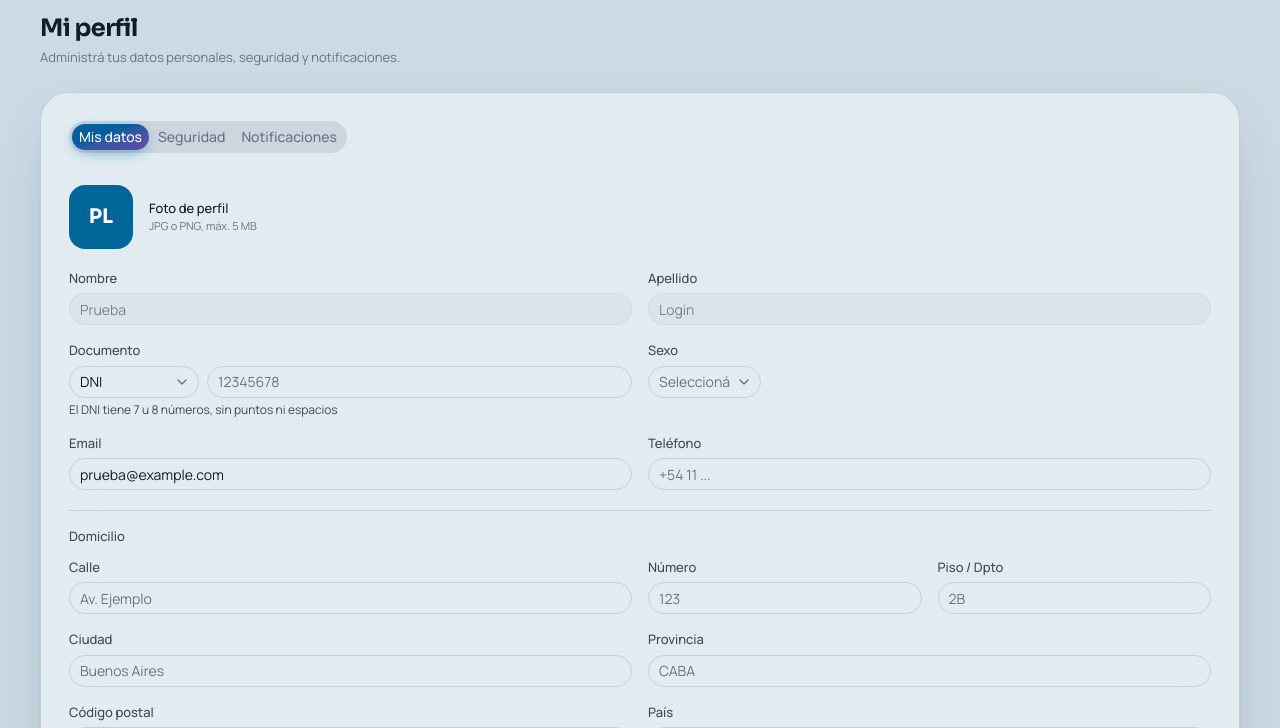
Scenario: MiPerfil — cambiar contraseña › says the current password is wrong instead of a generic error
The image size is (1280, 728).
Click the tab "Seguridad" at (192, 136), box [151,124,232,149]
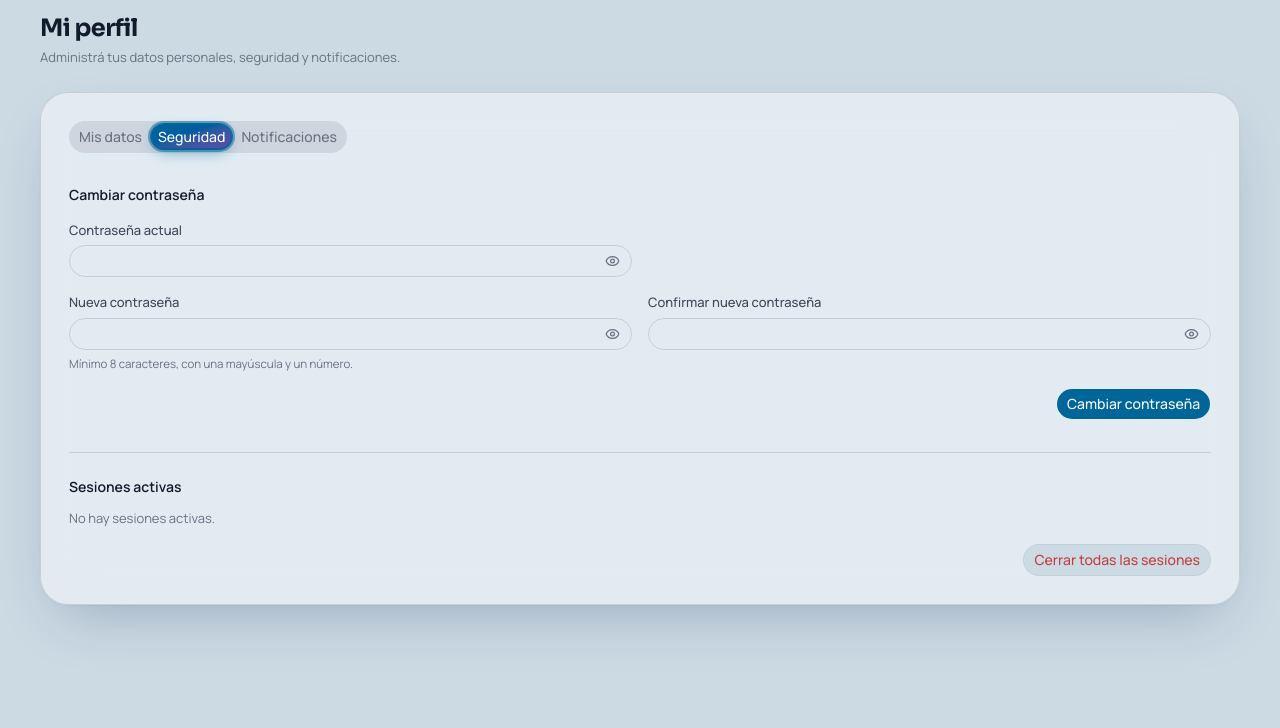
Type "Actual123" into the password field below "Contraseña actual" at (350, 261), box [69,245,632,277]
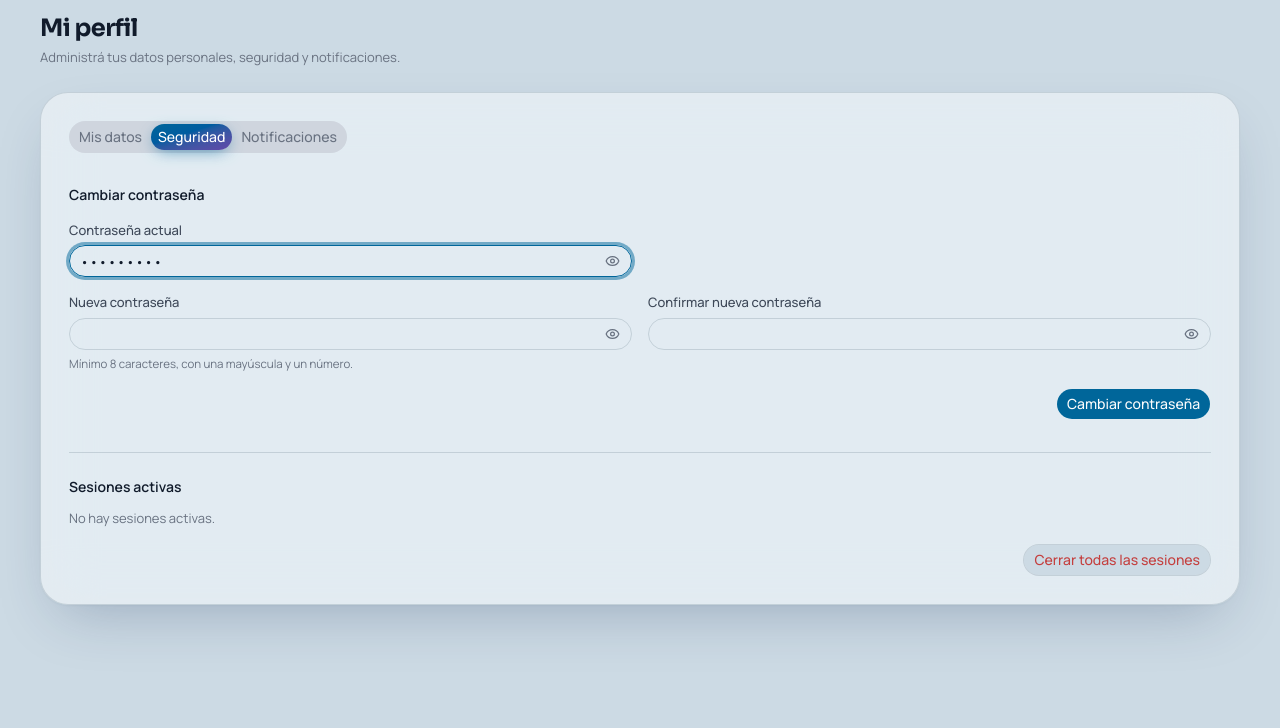
Type "Nueva1234" into the 2nd password field at (350, 334), box [69,318,632,350]
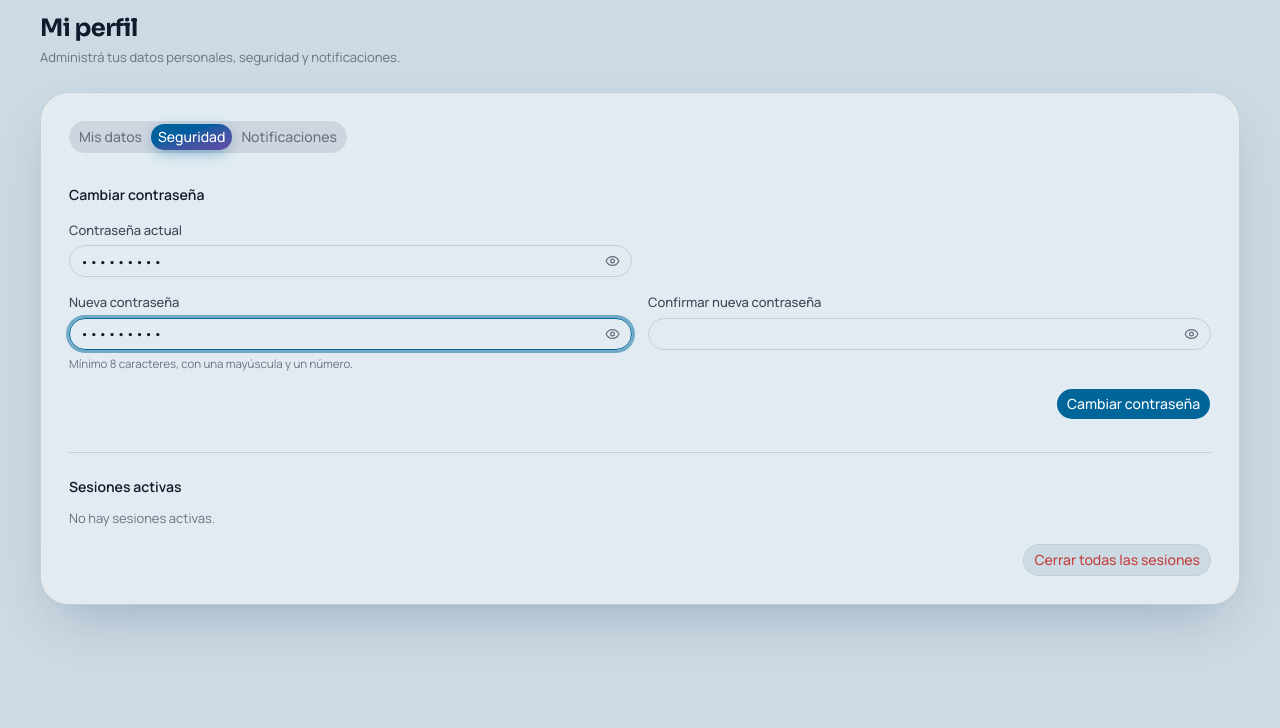
Type "Nueva1234" into the password field below "Confirmar nueva contraseña" at (930, 334), box [648,318,1211,350]
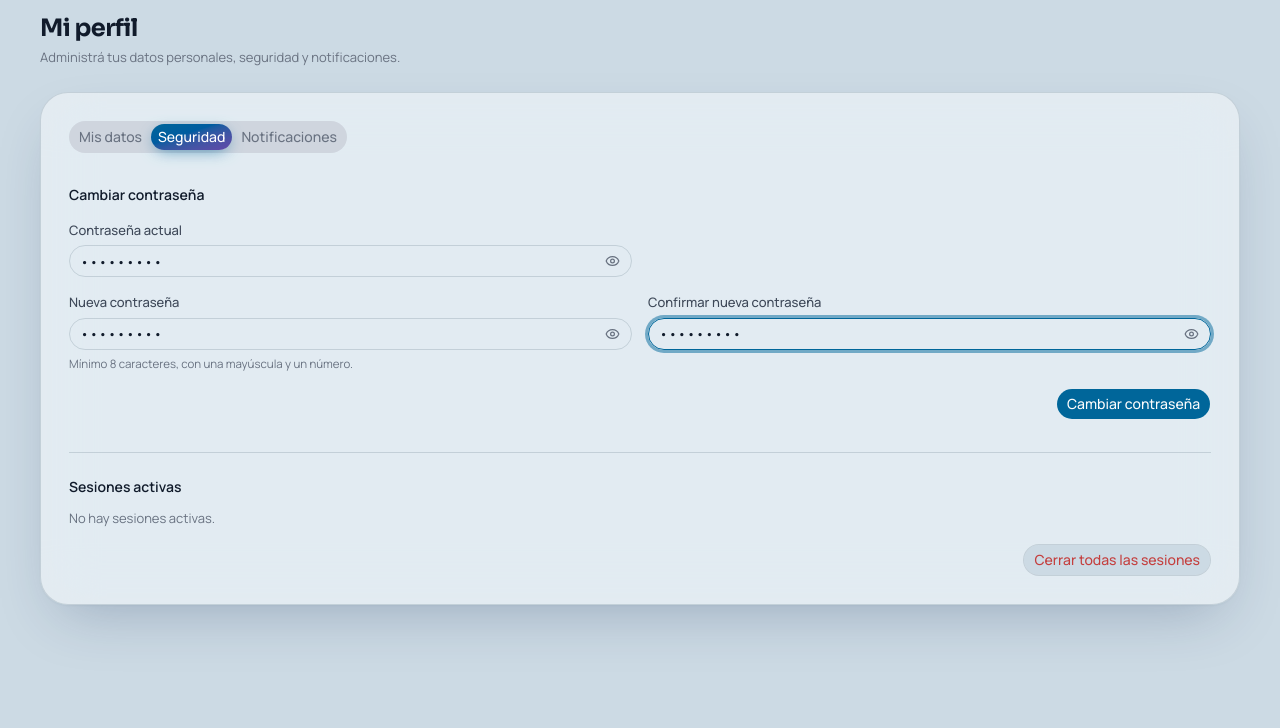
Click the button "Cambiar contraseña" at (1133, 404), box [1056,388,1211,420]
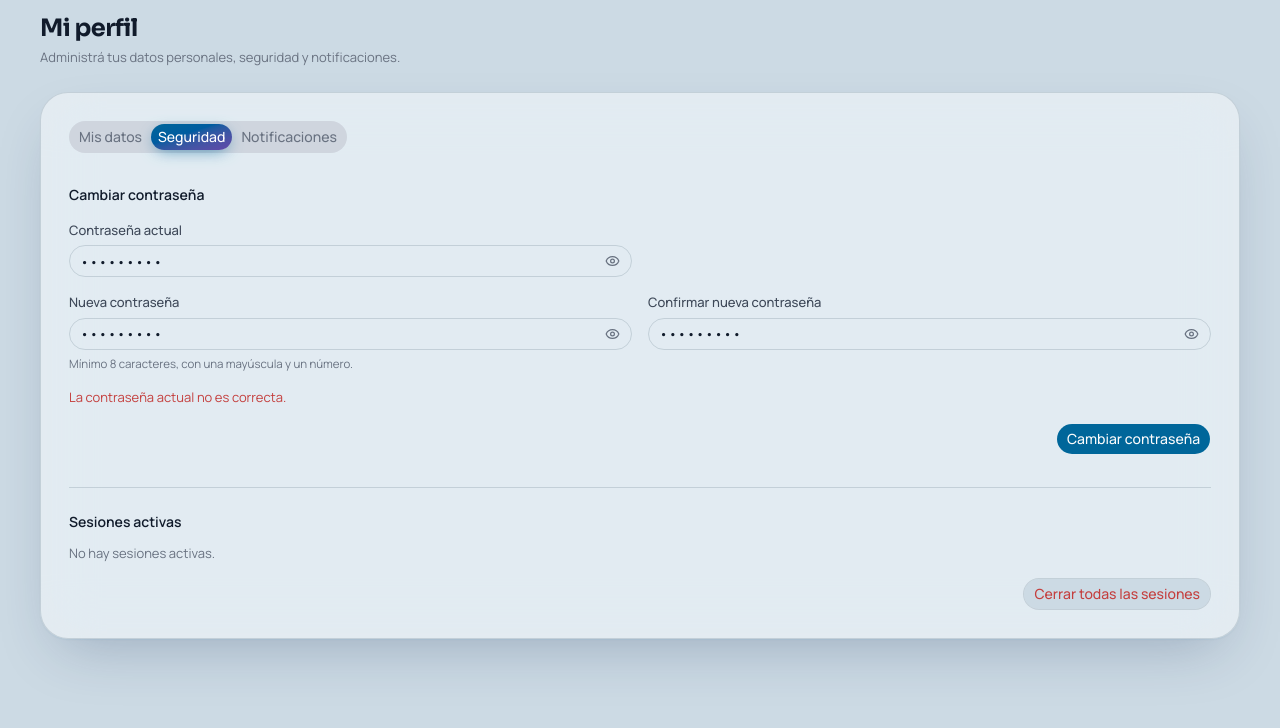
Expected: the text "La contraseña actual no es correcta." is shown, [69,388,286,406]
